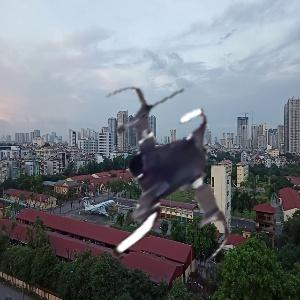drone: (46, 78, 256, 288)
